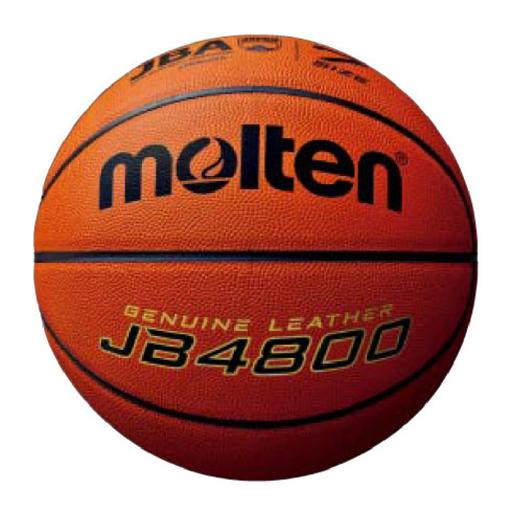ball: (33, 34, 479, 480)
